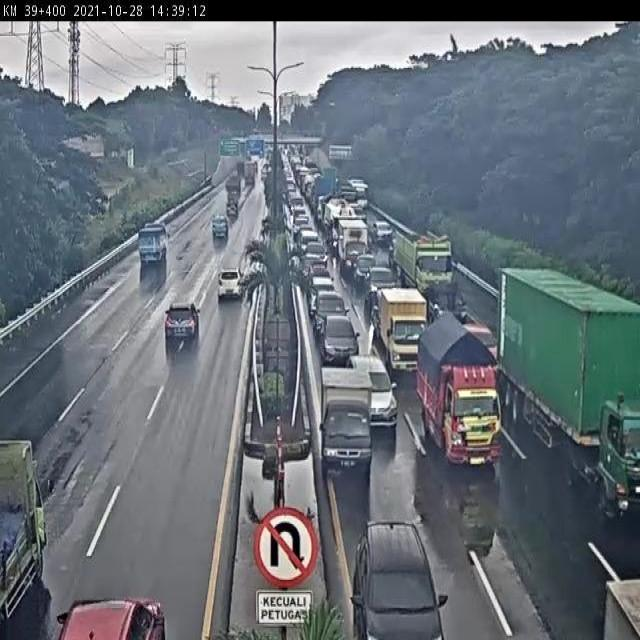big truck: (498, 261, 640, 507), (394, 226, 459, 302)
car: (356, 520, 442, 640), (64, 593, 158, 640), (350, 349, 399, 431), (318, 310, 364, 362), (159, 296, 201, 349), (131, 222, 171, 274), (314, 289, 349, 339), (213, 261, 248, 307), (368, 264, 399, 304), (313, 279, 343, 316), (318, 289, 345, 316), (357, 255, 378, 282), (317, 404, 318, 405)
small truck: (410, 316, 503, 459), (0, 442, 40, 634), (319, 358, 376, 466), (380, 288, 437, 367)
